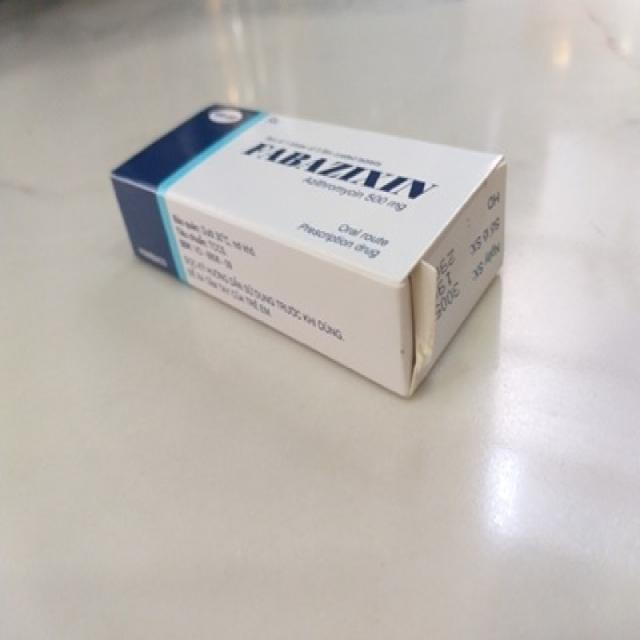PaperCardboard: (110, 104, 507, 398)
